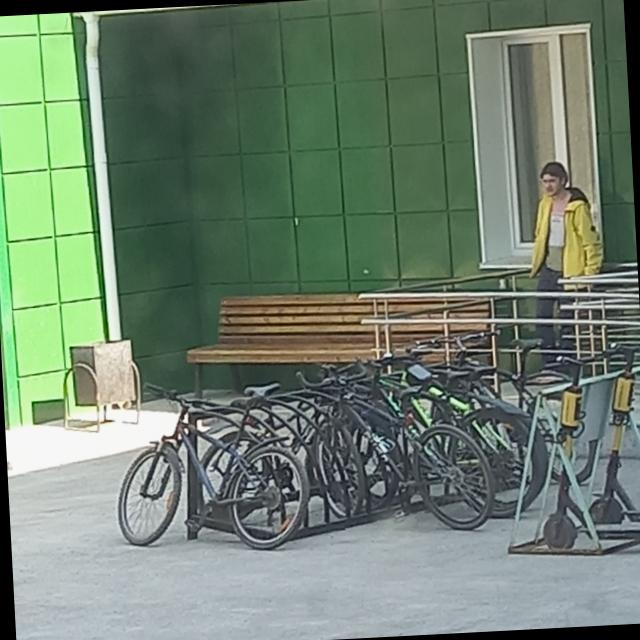person: (522, 158, 608, 371)
